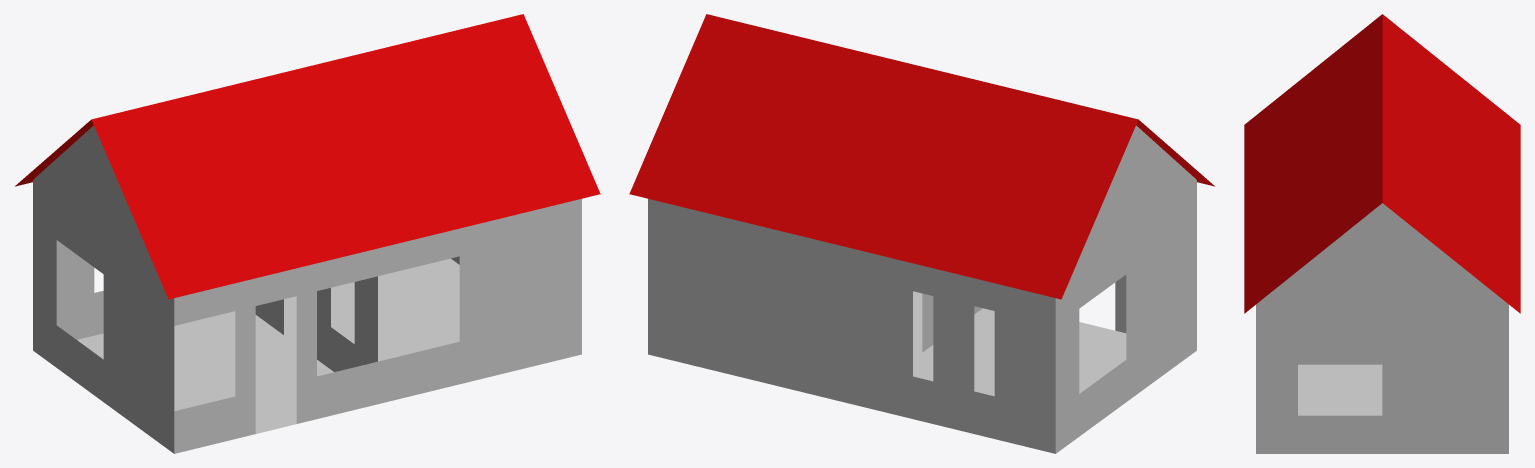
The model's file is Jayhouse.dae.
3 views of the same model, side by side, from view 1: azimuth 30°, elevation 25°; view 2: azimuth 150°, elevation 25°; view 3: azimuth 270°, elevation 25° (orthographic). The views are drawn at different scales.
Parts seen in each view (by area): view 1: Plane; view 2: Plane; view 3: Plane.
Boxes of the visible parts, x1,y1,x2,y2 form: Plane: (15,14,600,453); Plane: (629,14,1214,453); Plane: (1244,14,1520,453).
Size of the model in its own units: 10.6 by 6.55 by 6.7.
